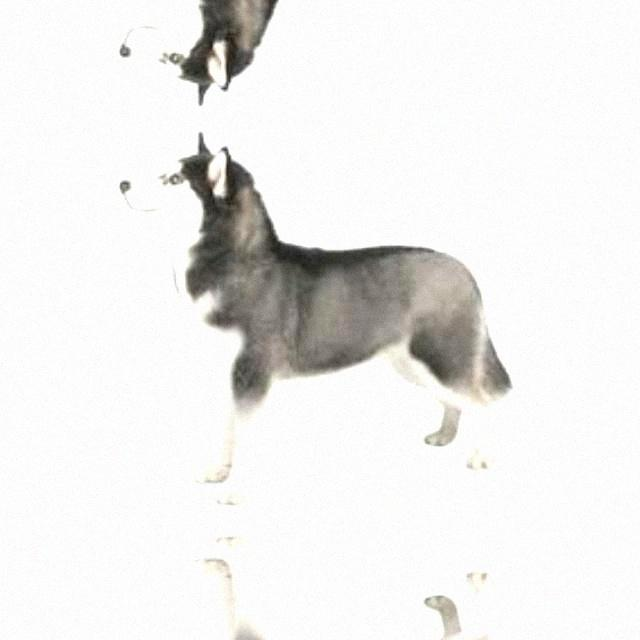dog: (125, 138, 539, 494), (125, 0, 539, 98), (125, 547, 539, 640)
